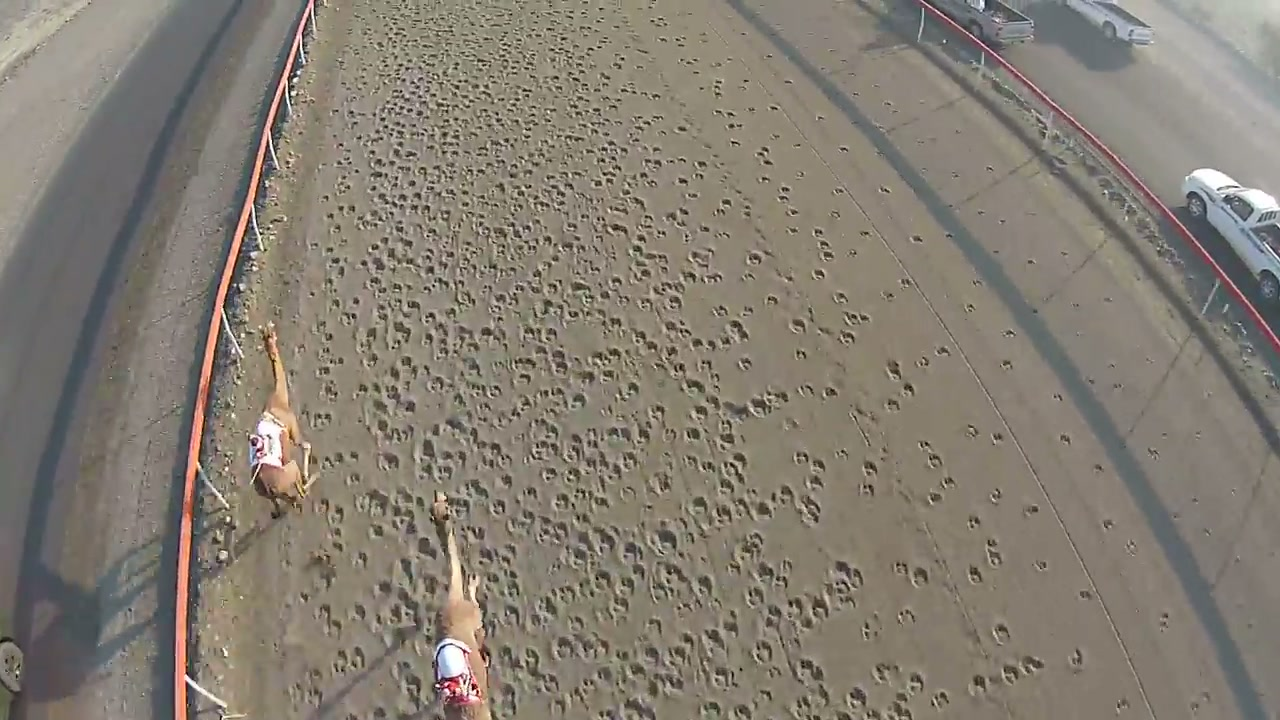animal_footprint: (291, 40, 833, 719), (690, 106, 1060, 709)
